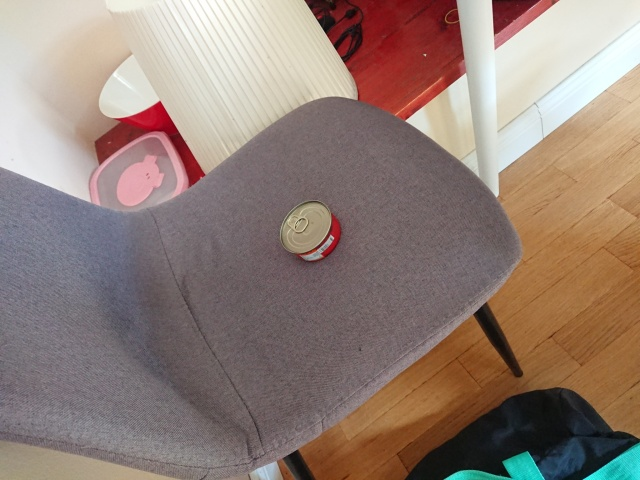Gavrilovic Pork Liver Pate 100g: (277, 198, 343, 264)
